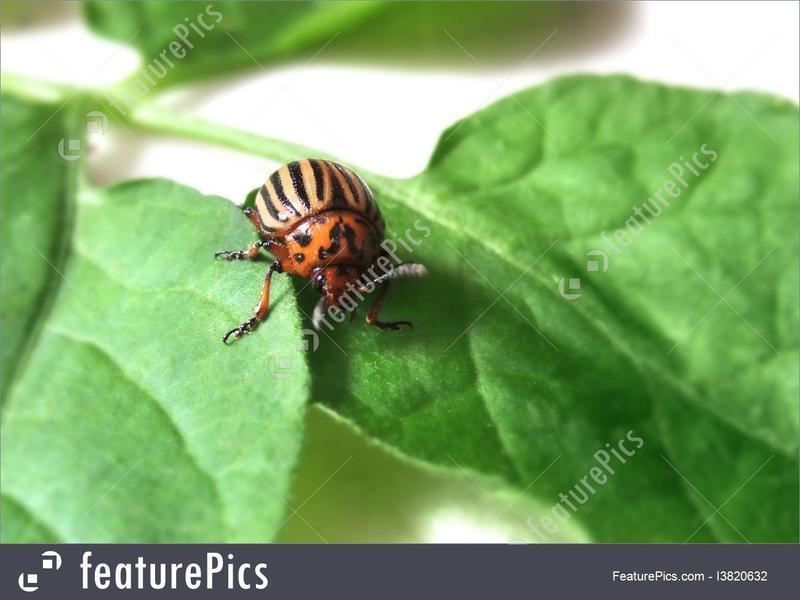hrosc: (216, 147, 400, 299)
